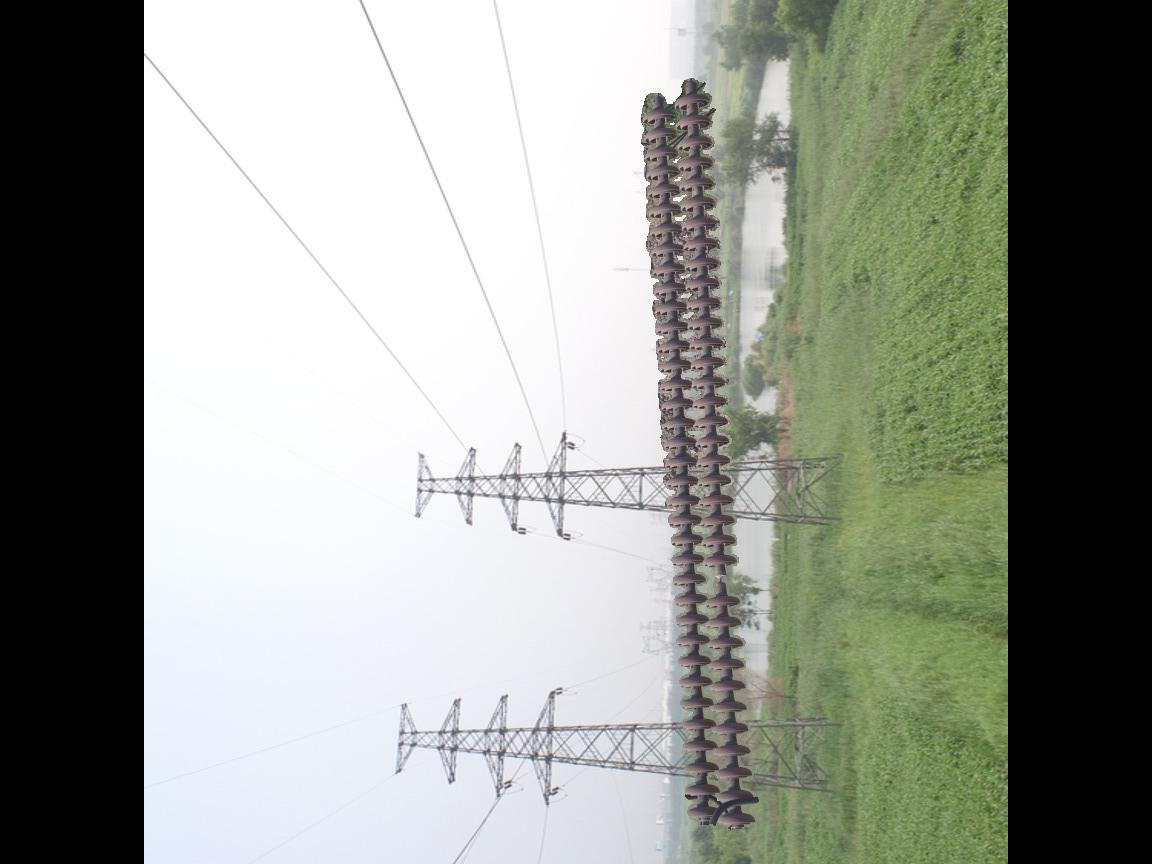insulator: (632, 84, 763, 833)
insulator_stringdrop: (700, 549, 742, 613)
